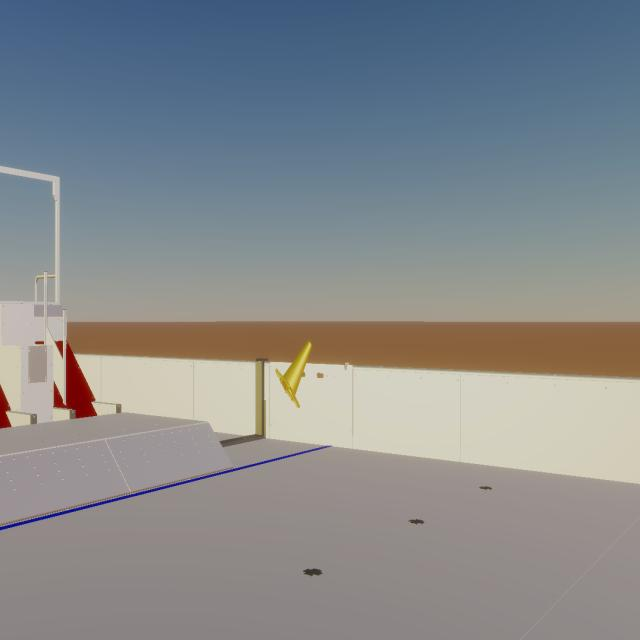frc_cone: (275, 341, 312, 408)
